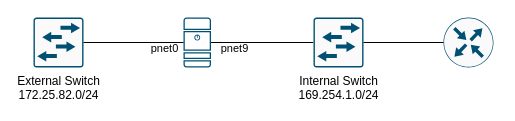
The diagram is 515 pixels wide and 121 high, and some of its shapes have lost their labels. Each missing label, with the centre of its shape:
"EVE-NG" belongs at (x=196, y=42).
"Lab Router" belongs at (x=468, y=42).
